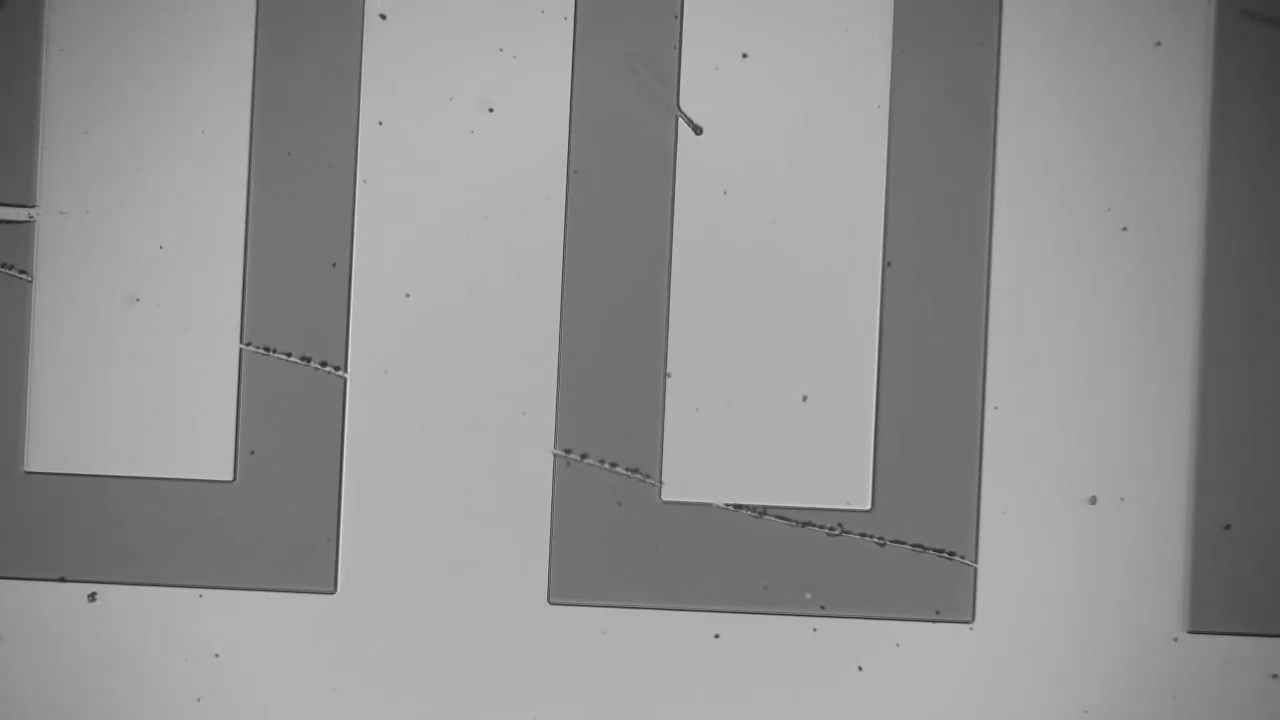Short_circuit: (0, 179, 56, 236)
scratch: (735, 515, 968, 562), (560, 445, 657, 484), (245, 342, 342, 369)
